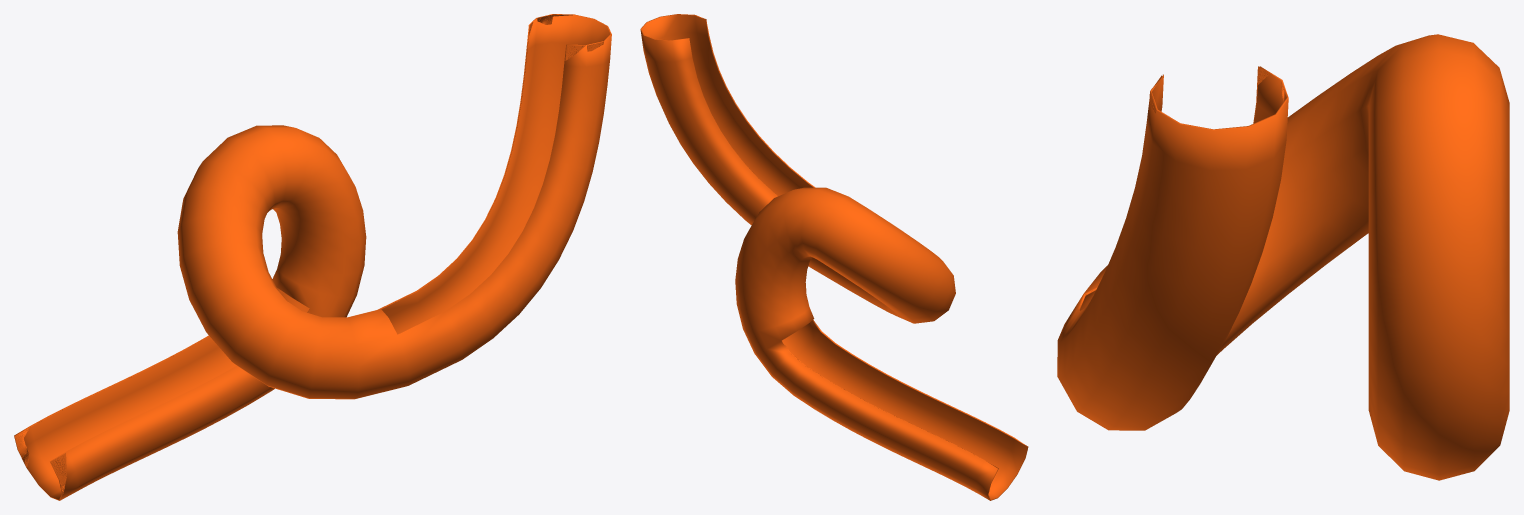
File: tobogan4.fbx
3 renders of one model, left to right at view 1: azimuth 30°, elevation 25°; view 2: azimuth 150°, elevation 25°; view 3: azimuth 270°, elevation 25°, orthographic. The views are drawn at different scales.
Parts seen in each view (by area): view 1: BézierCurve.001; view 2: BézierCurve.001; view 3: BézierCurve.001.
Part boxes in pixels (box(x1,y1,x2,y2)): BézierCurve.001: box(14, 14, 611, 500); BézierCurve.001: box(640, 14, 1028, 500); BézierCurve.001: box(1057, 34, 1509, 480).
Size of the model in its own units: 541 by 416 by 250.
